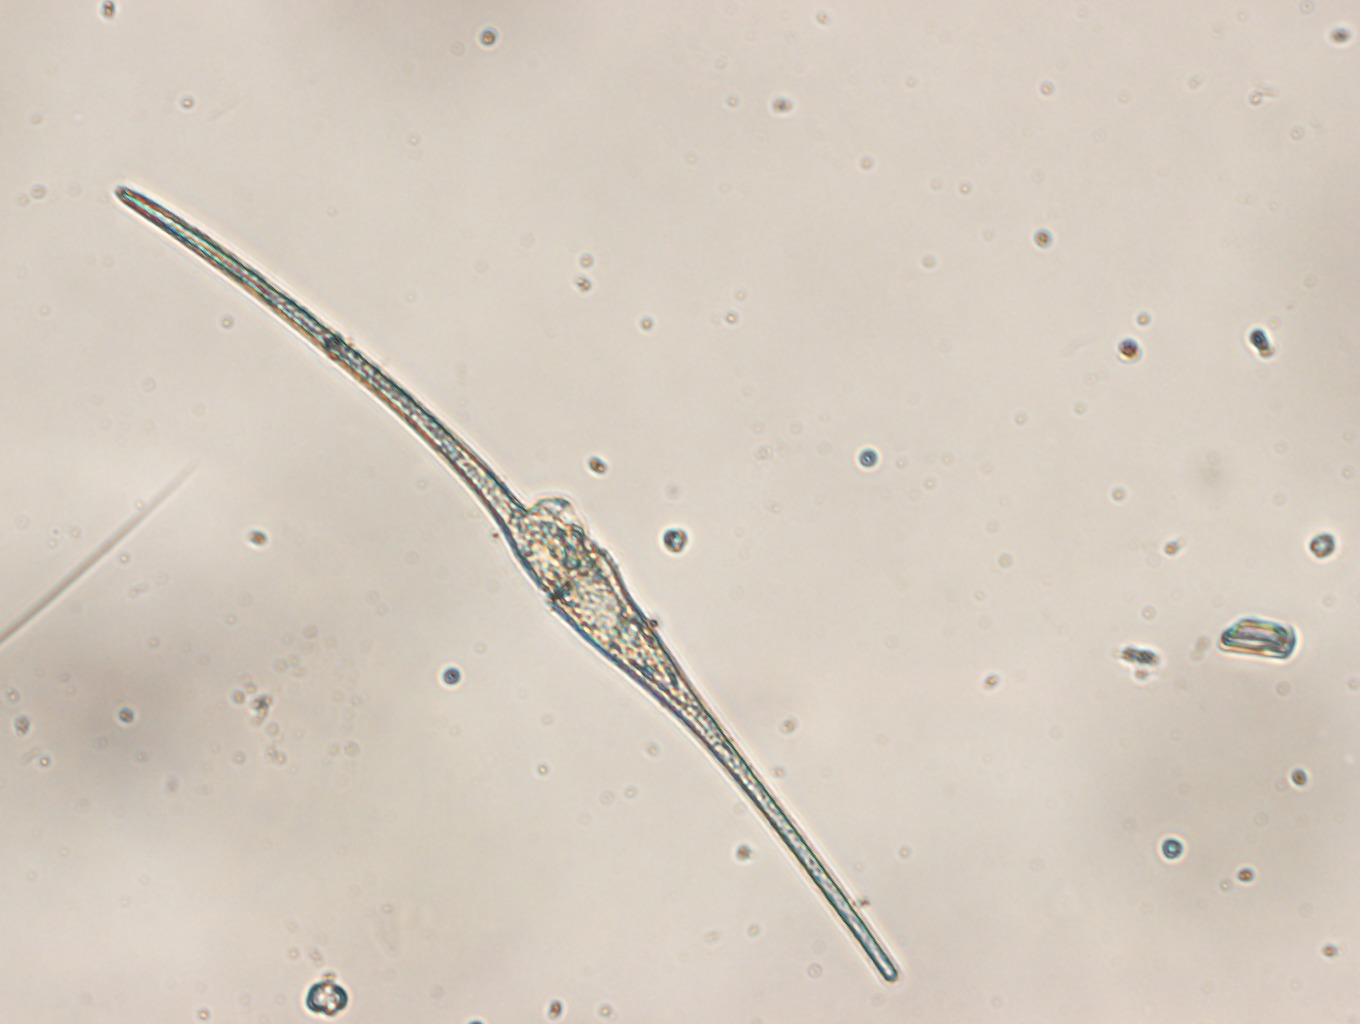ceratium fusus: (104, 181, 902, 989)
